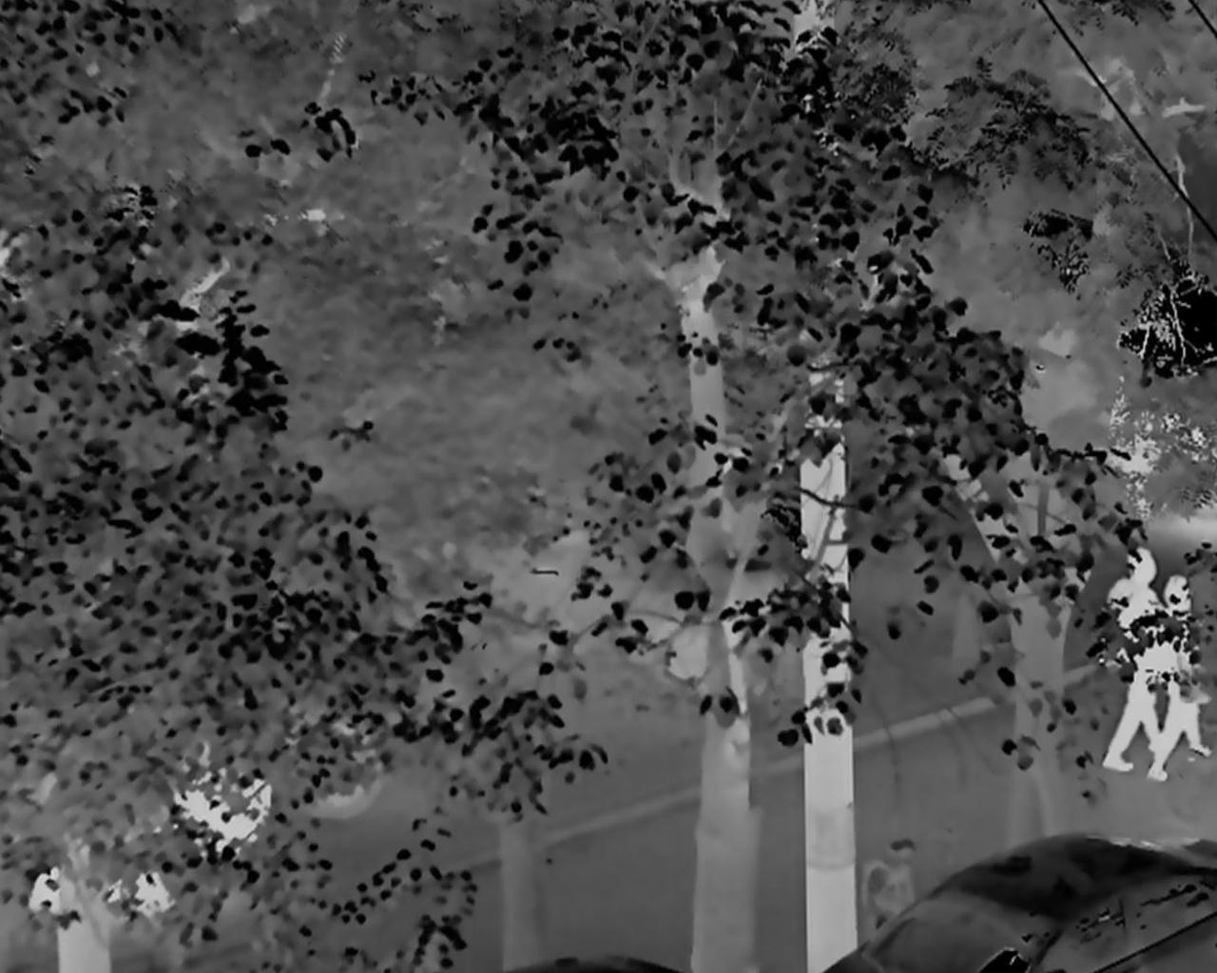person: (1149, 574, 1213, 792), (1105, 544, 1159, 775)
